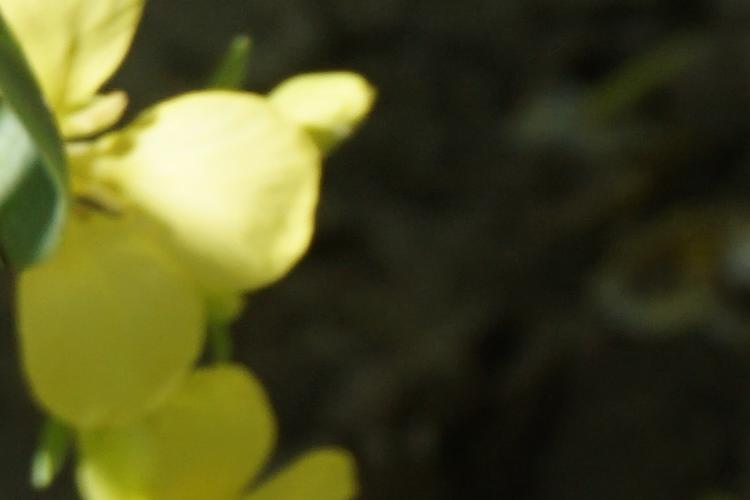yellow: (41, 82, 309, 412)
